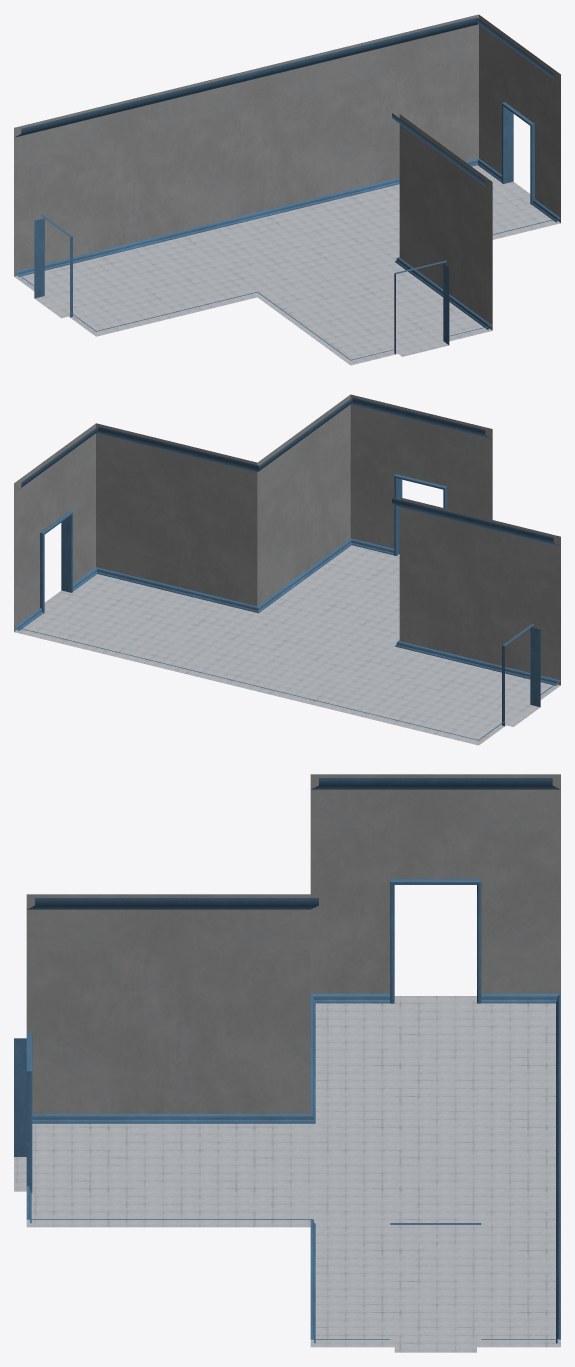
The model's file is PZ_room3.glb.
3 views of the same model, one above another, from view 1: azimuth 30°, elevation 25°; view 2: azimuth 150°, elevation 25°; view 3: azimuth 270°, elevation 25° (orthographic). The views are drawn at different scales.
Parts seen in each view (by area): view 1: PZ_HallwayT; view 2: PZ_HallwayT; view 3: PZ_HallwayT.
Boxes of the visible parts, x1,y1,x2,y2 form: PZ_HallwayT: [14, 14, 560, 365]; PZ_HallwayT: [14, 394, 560, 745]; PZ_HallwayT: [14, 774, 560, 1352].
Size of the model in its own units: 20.48 by 6.08 by 13.28.
3 materials, 3 textured.
